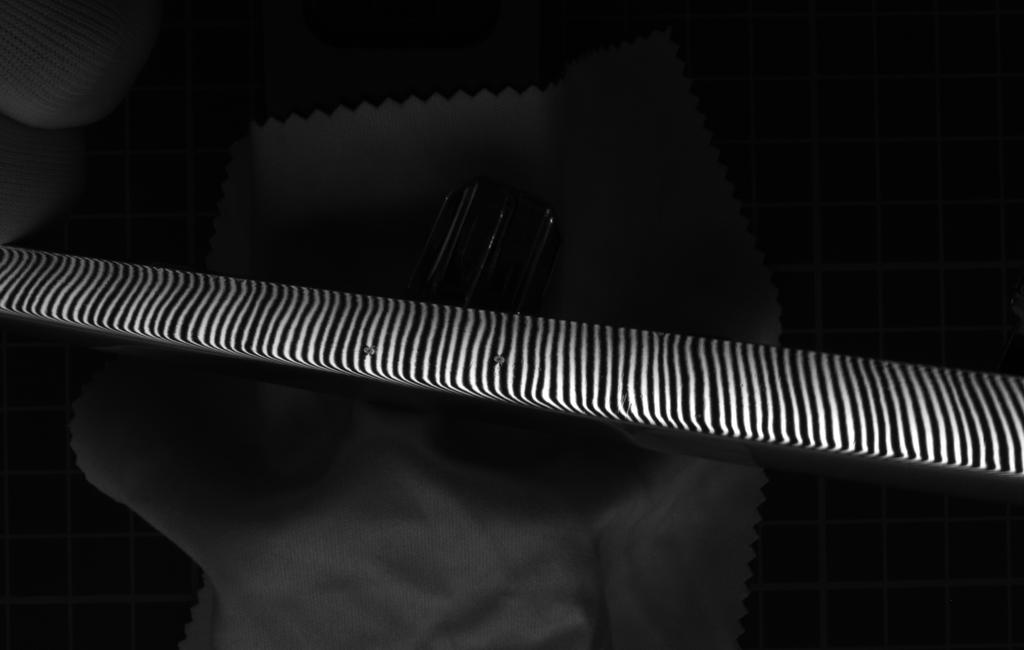Pierced: (480, 351, 516, 370), (356, 340, 383, 363)
